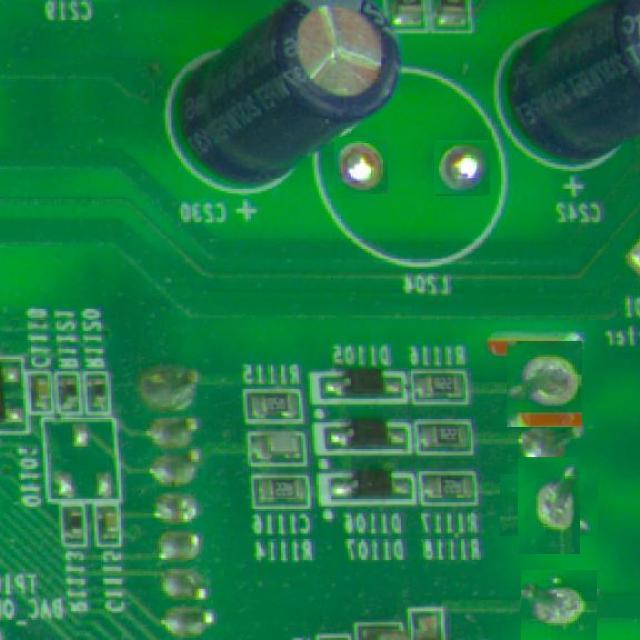lack_of_part: (506, 340, 582, 427), (509, 465, 589, 545), (520, 569, 597, 640), (334, 137, 388, 195), (435, 141, 489, 195)
